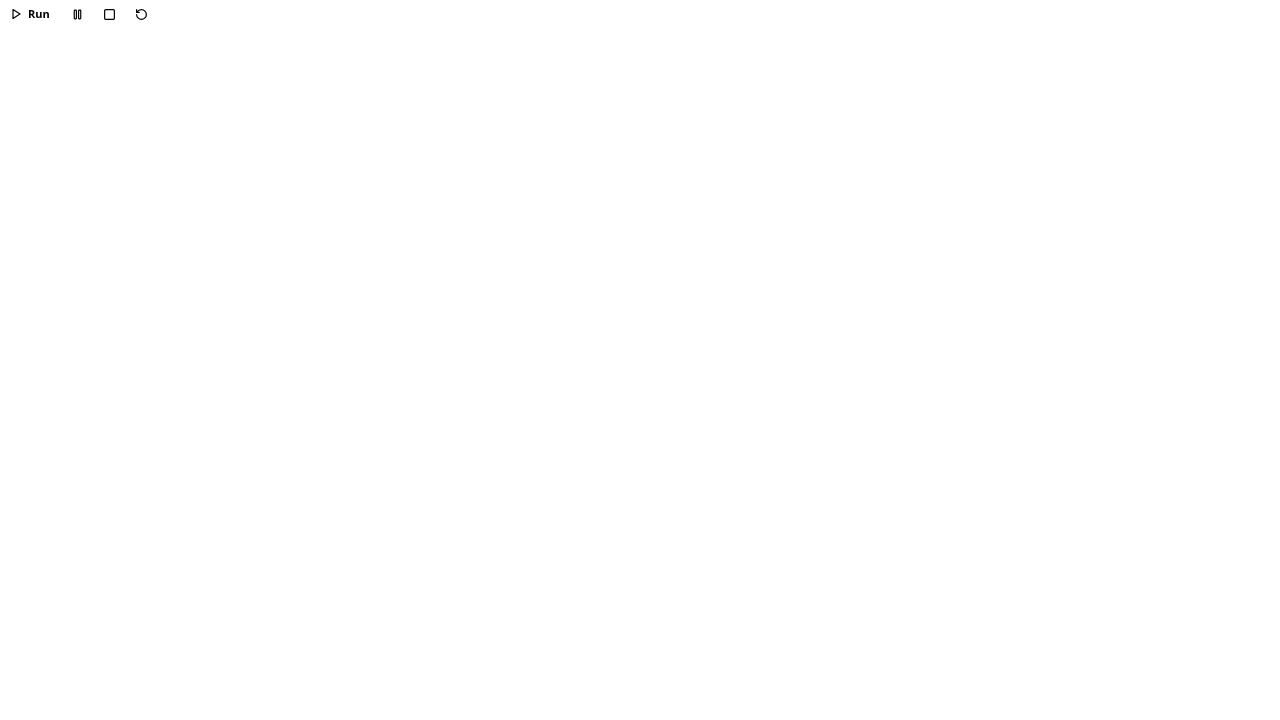
Scenario: PG-1.2 run controls in the workspace header (D360) › Stop asks first (FR-CTL-003)
The width and height of the screenshot is (1280, 720).
Click the button named "Stop": {"x": 110, "y": 14} [96,0,124,28]
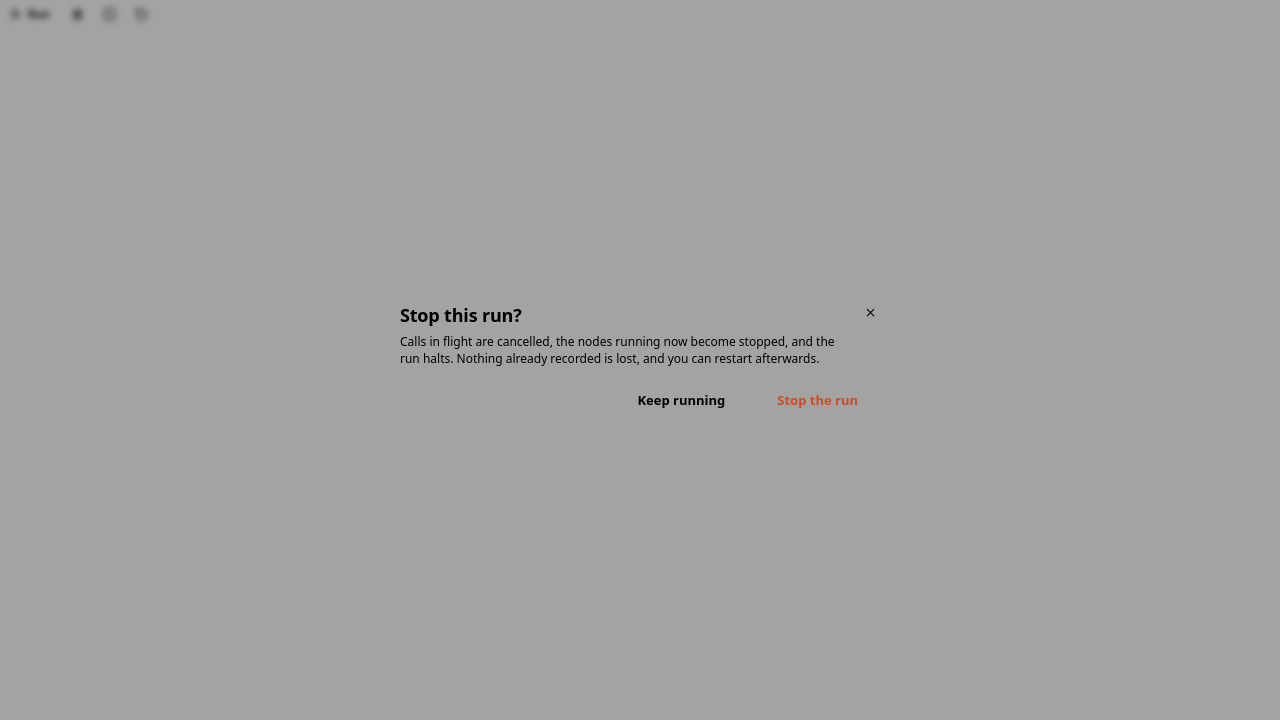
Expected: the element with test id "stop-confirm" is shown, [400,302,880,418]
Click the button "Keep running": {"x": 681, "y": 401} [615,384,747,418]
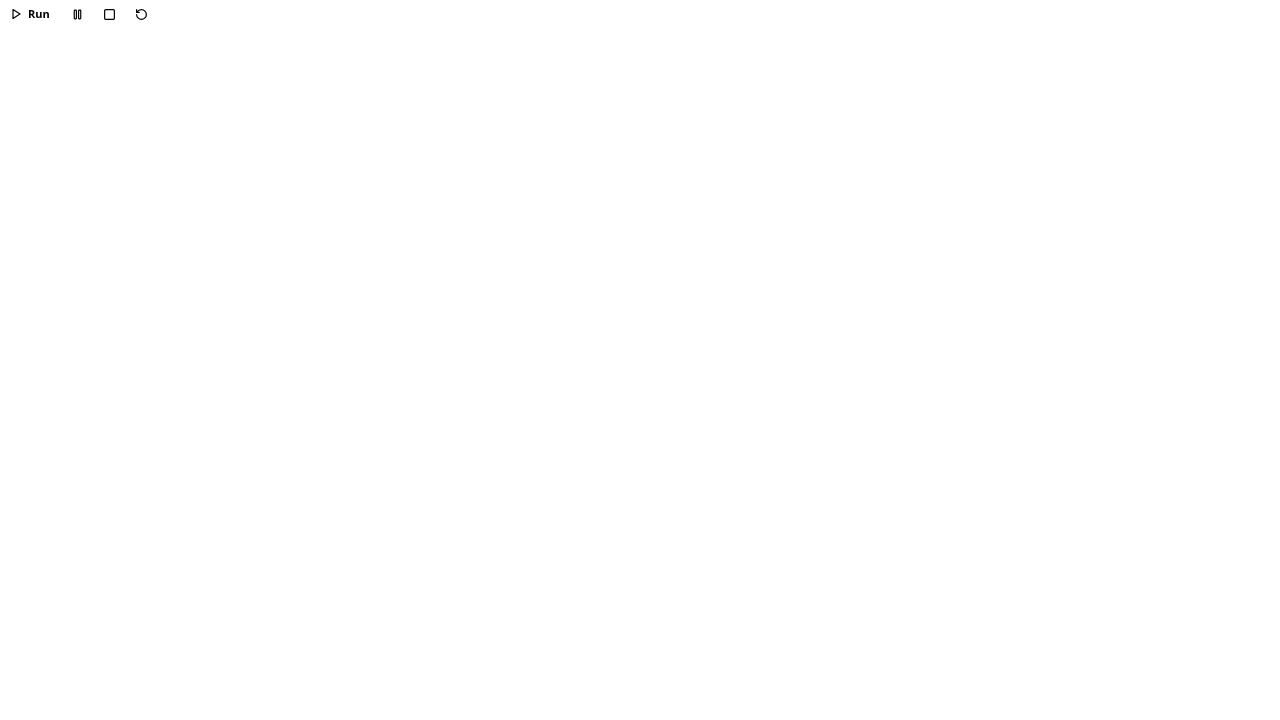
Expected: the element with test id "stop-confirm" is gone
